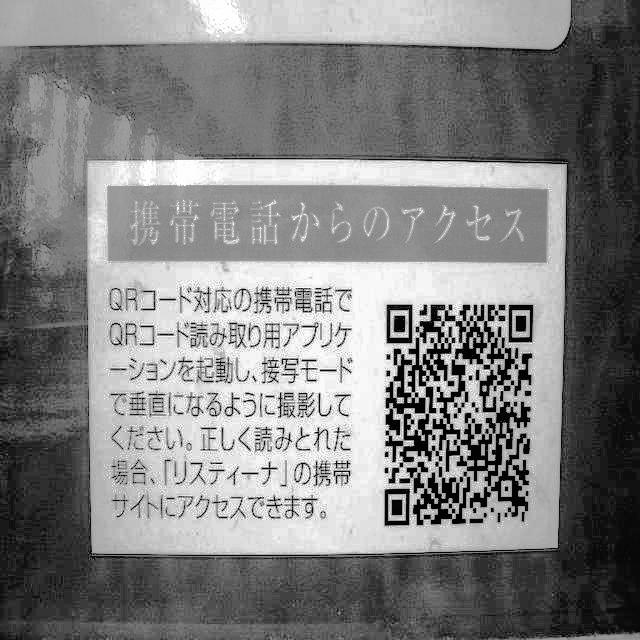qr_code: (385, 305, 534, 526)
